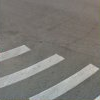crosswalk: (0, 44, 100, 100)
